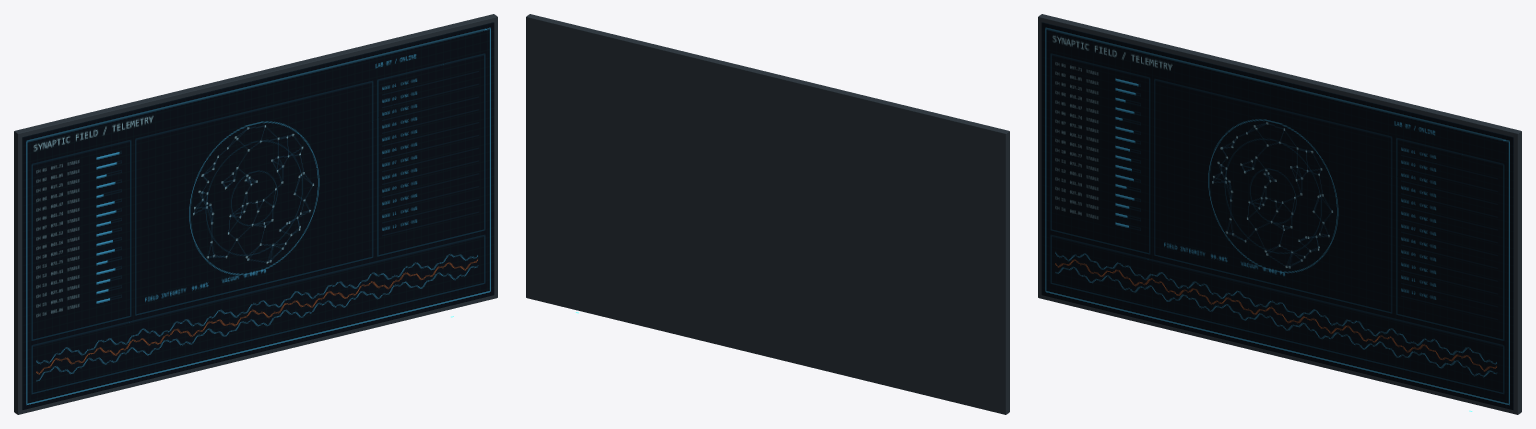
The model's file is SM_Lab_WallDisplay__Display_00.fbx.
The picture shows the model from 3 angles, left to right: view 1: azimuth 30°, elevation 25°; view 2: azimuth 150°, elevation 25°; view 3: azimuth 330°, elevation 25°; orthographic projection.
Visible parts, largest first — view 1: SM_Lab_WallDisplay__Display_00; view 2: SM_Lab_WallDisplay__Display_00; view 3: SM_Lab_WallDisplay__Display_00.
Boxes of the visible parts, box(x1,y1,x2,y2) form: SM_Lab_WallDisplay__Display_00: box(14, 14, 497, 414); SM_Lab_WallDisplay__Display_00: box(526, 14, 1009, 414); SM_Lab_WallDisplay__Display_00: box(1038, 14, 1521, 414).
Bounding box in the file's own units: 387 × 7.2 × 222.
